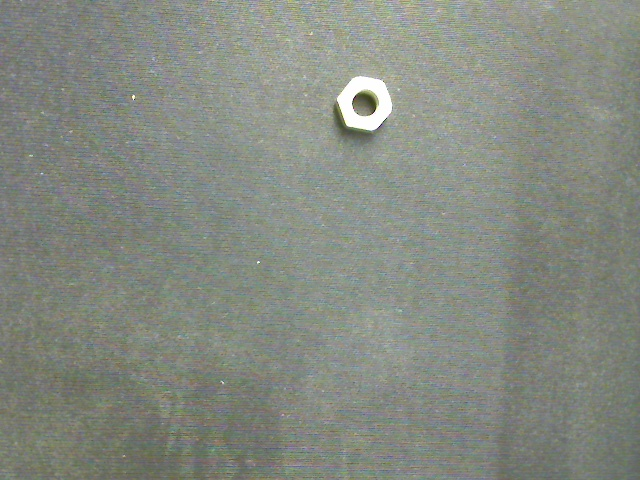Nut: (335, 75, 392, 132)
